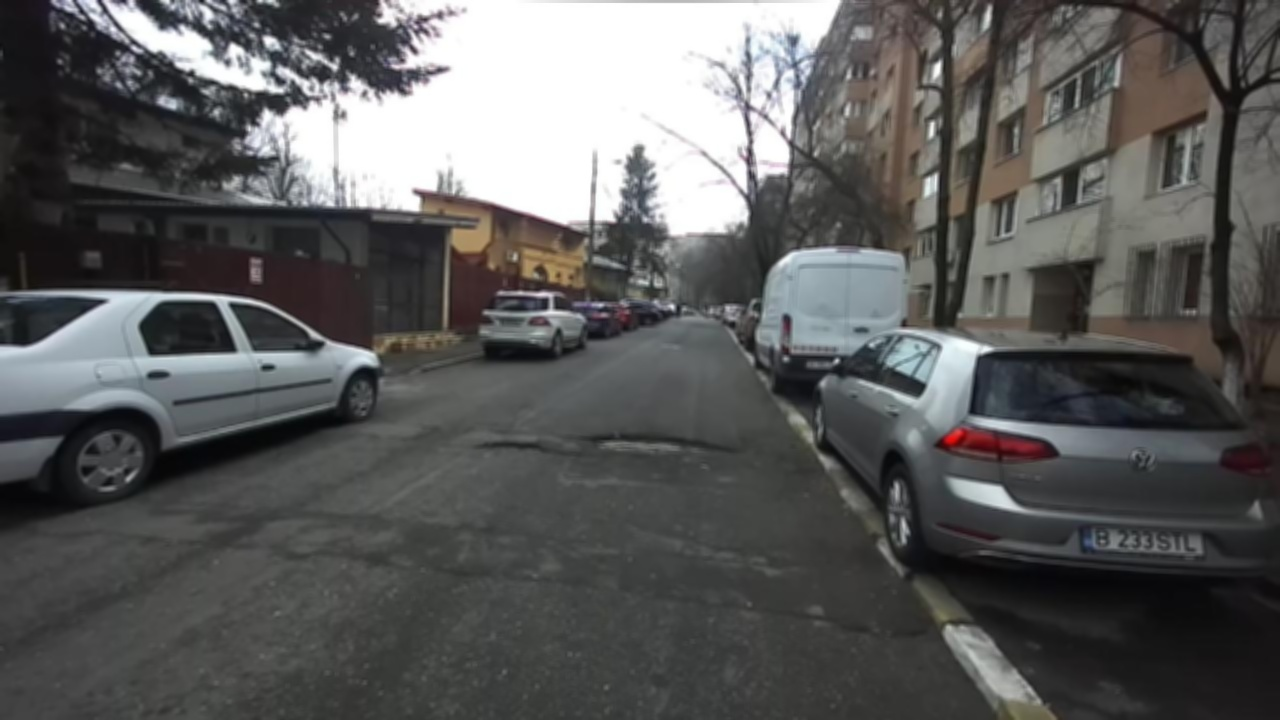pothole: (584, 428, 740, 459), (776, 610, 924, 642), (470, 437, 550, 456)
